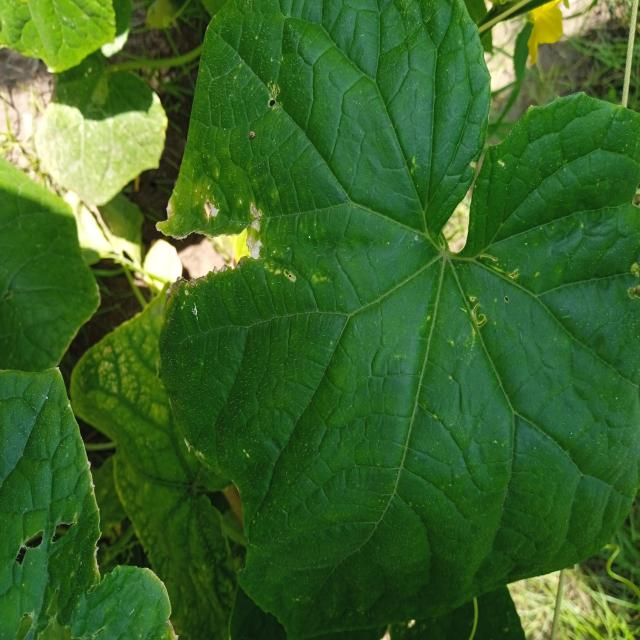cucumber_healthy: (154, 0, 640, 639), (0, 369, 191, 640), (0, 147, 107, 396), (0, 0, 139, 76)
